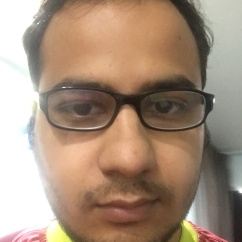glasses: (36, 90, 209, 131)
